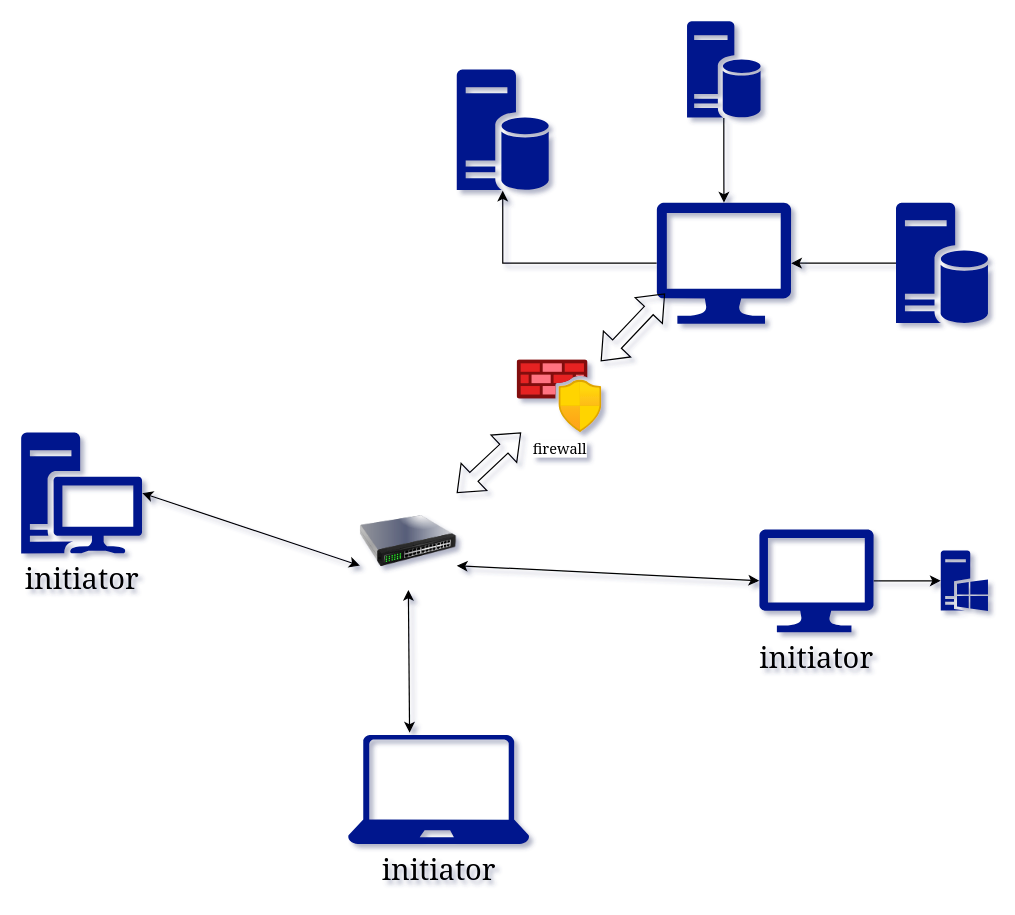
This 1015x915 diagram has some shape labels left out. Here are the shapes that lost their labels. From the top down, the centre of each, then its label:
point 723,262: Target
point 407,540: switch
